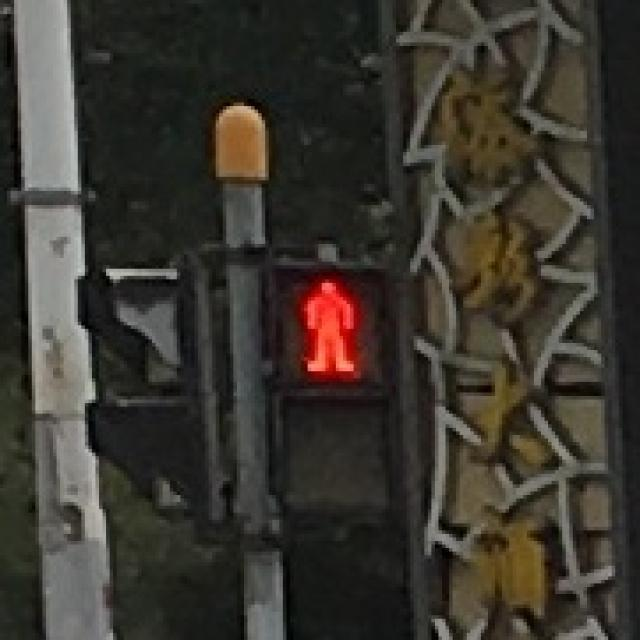red-crossing: (286, 267, 368, 387)
